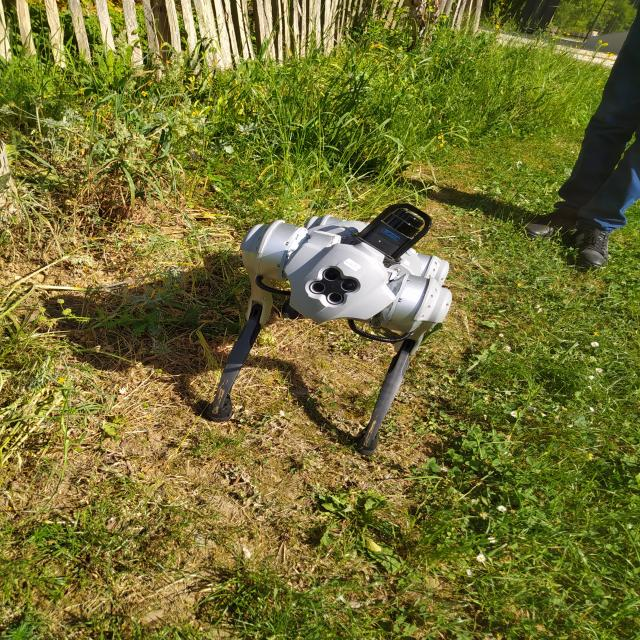unitree-go1-robot: (188, 193, 457, 466)
